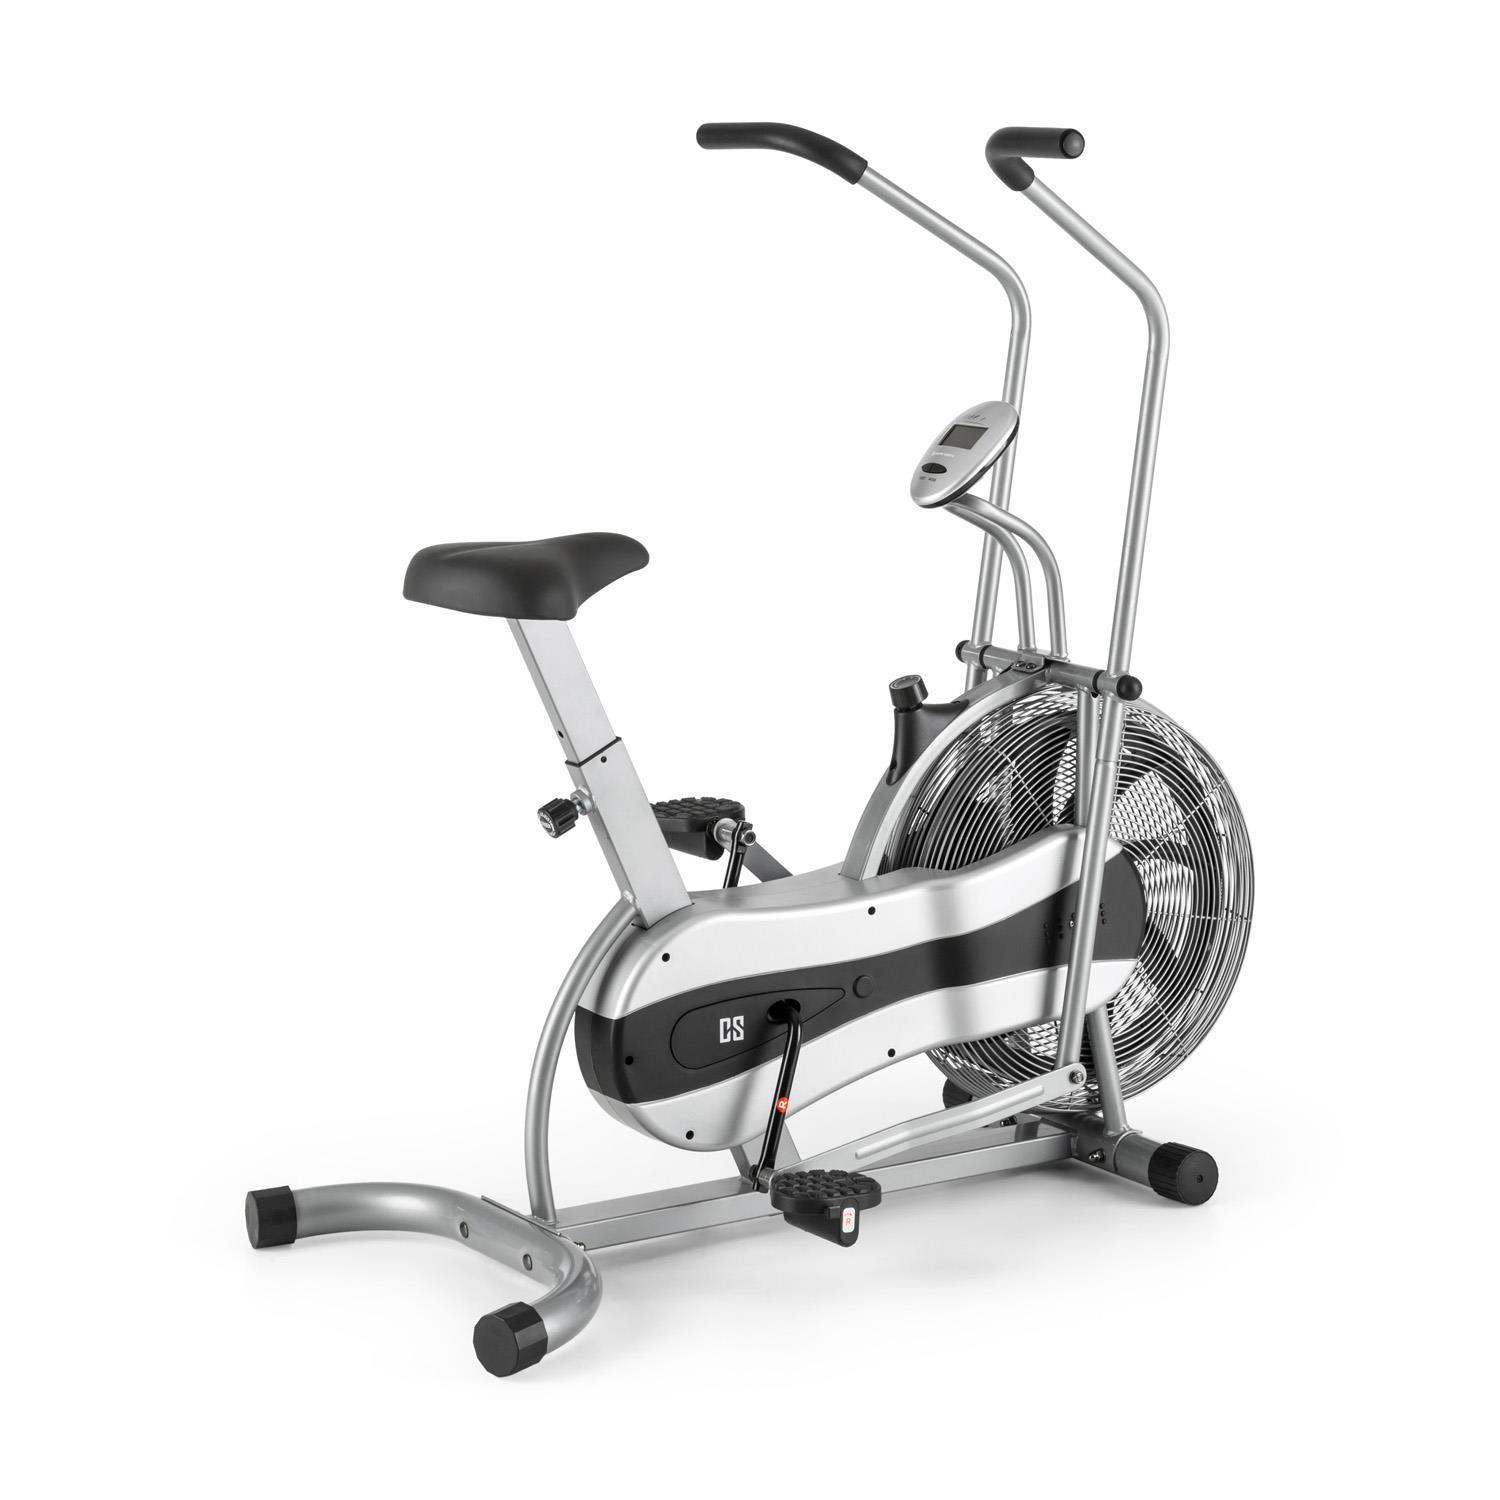gym_bike: (228, 80, 1266, 1407)
